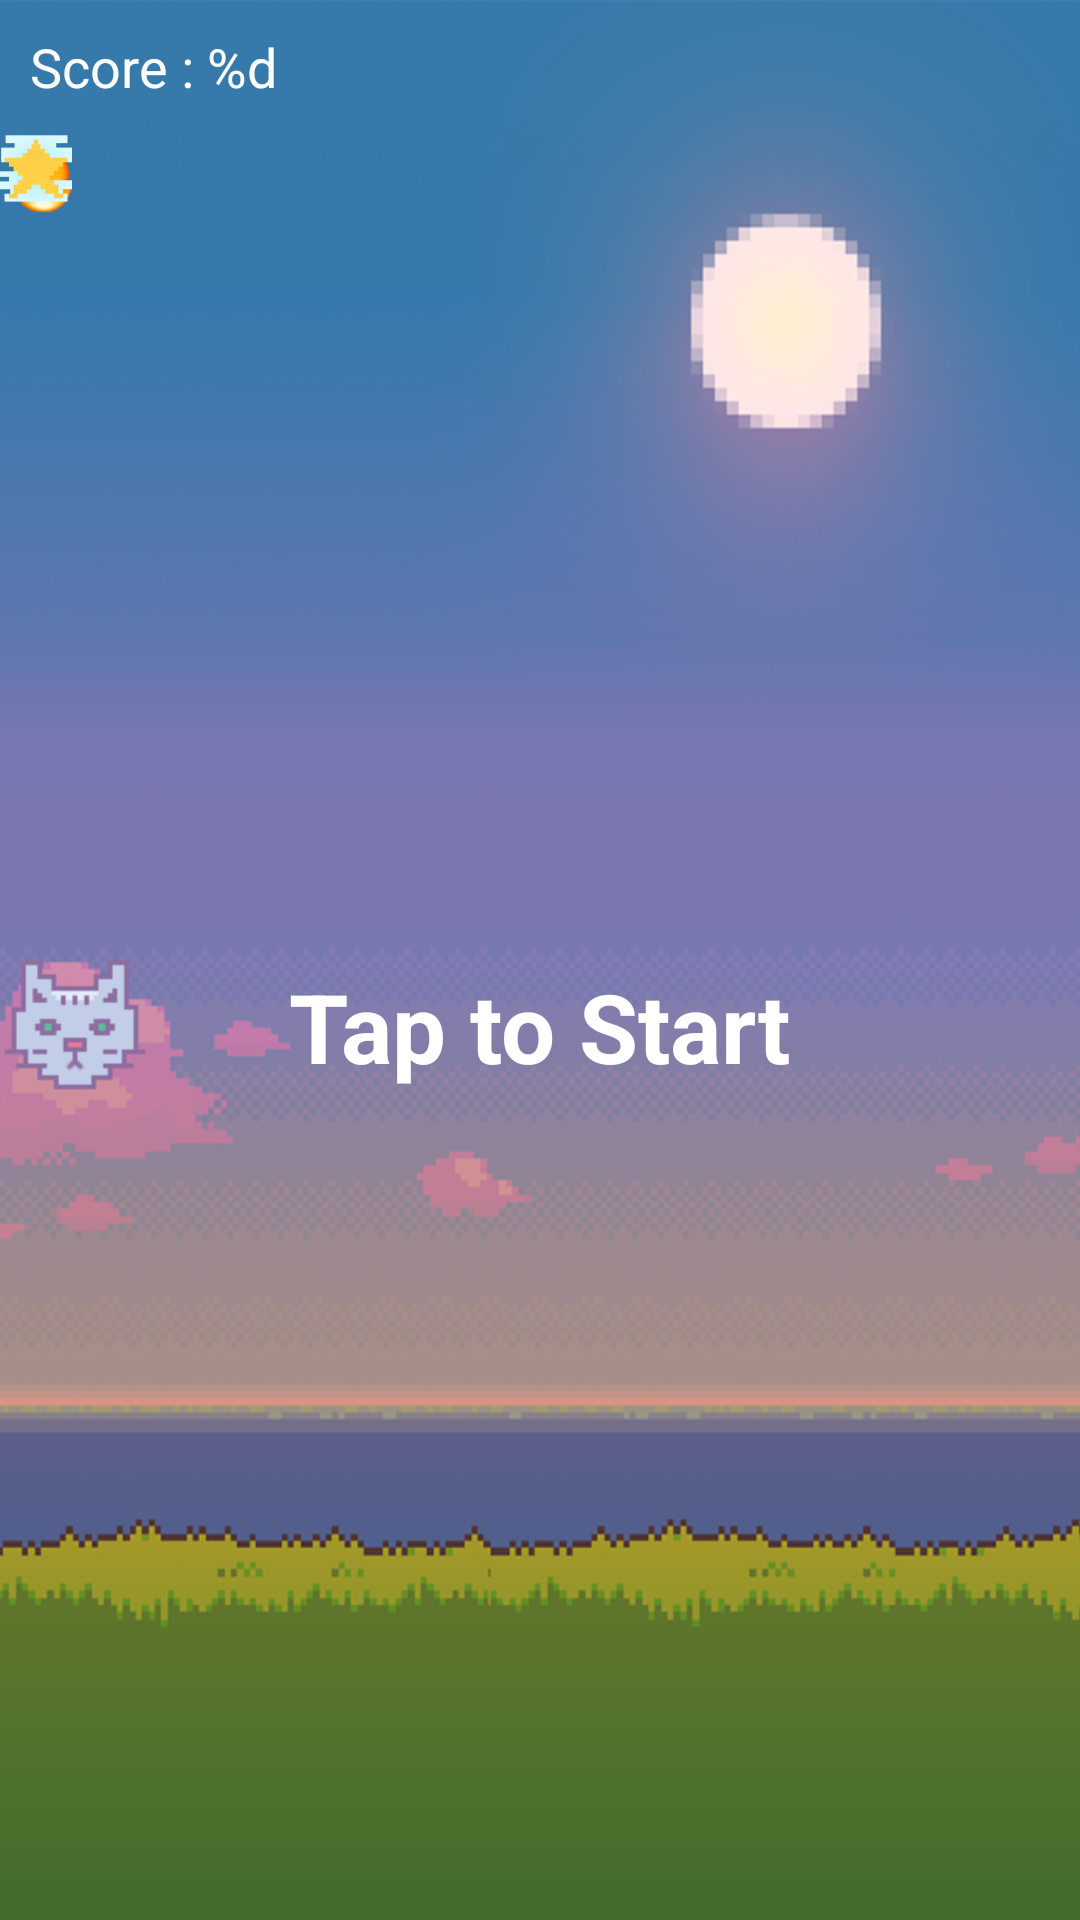

Icons on this 1080px x 1920px Android screen, each with the point to tap as (x,y):
cat: (75,1026)
